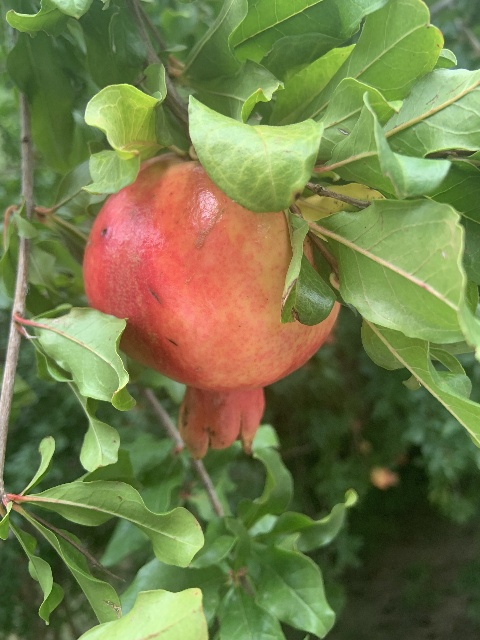ripe: (84, 152, 337, 456)
